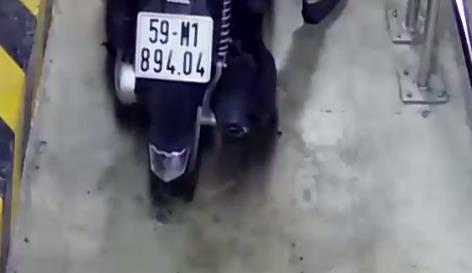lisence: (135, 11, 212, 83)
